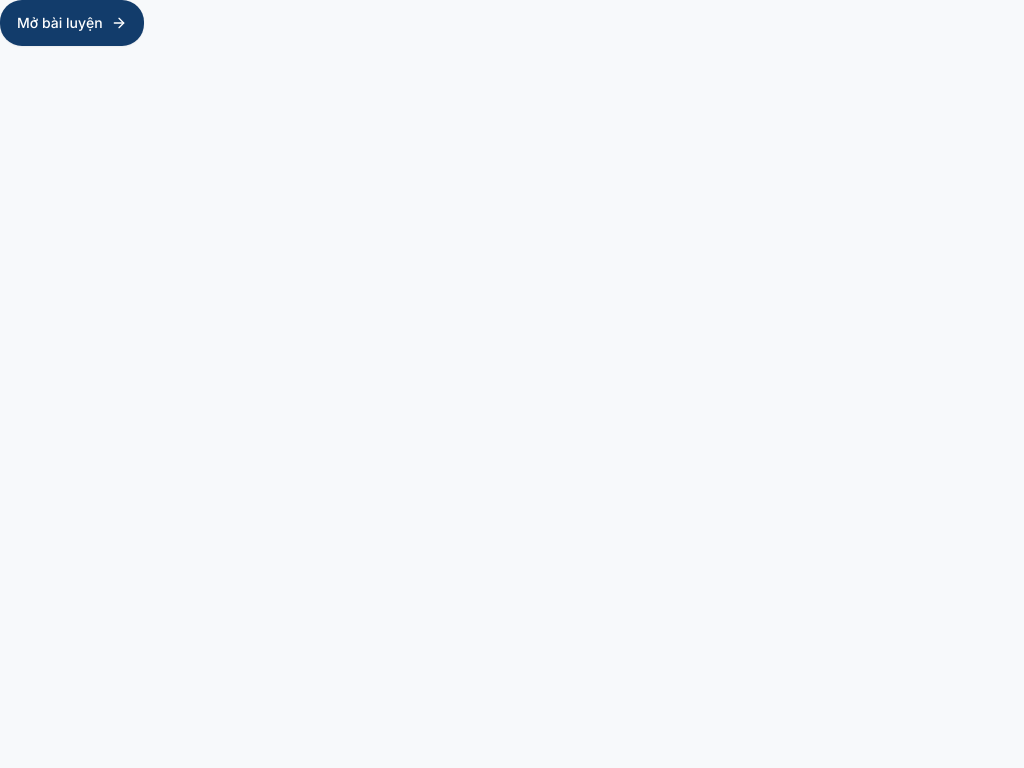
uses the same accessible mode popup before opening a practice set
Later steps or results of the test are not shown.
Click the link "Mở bài luyện": point(72, 23) [0,0,144,46]
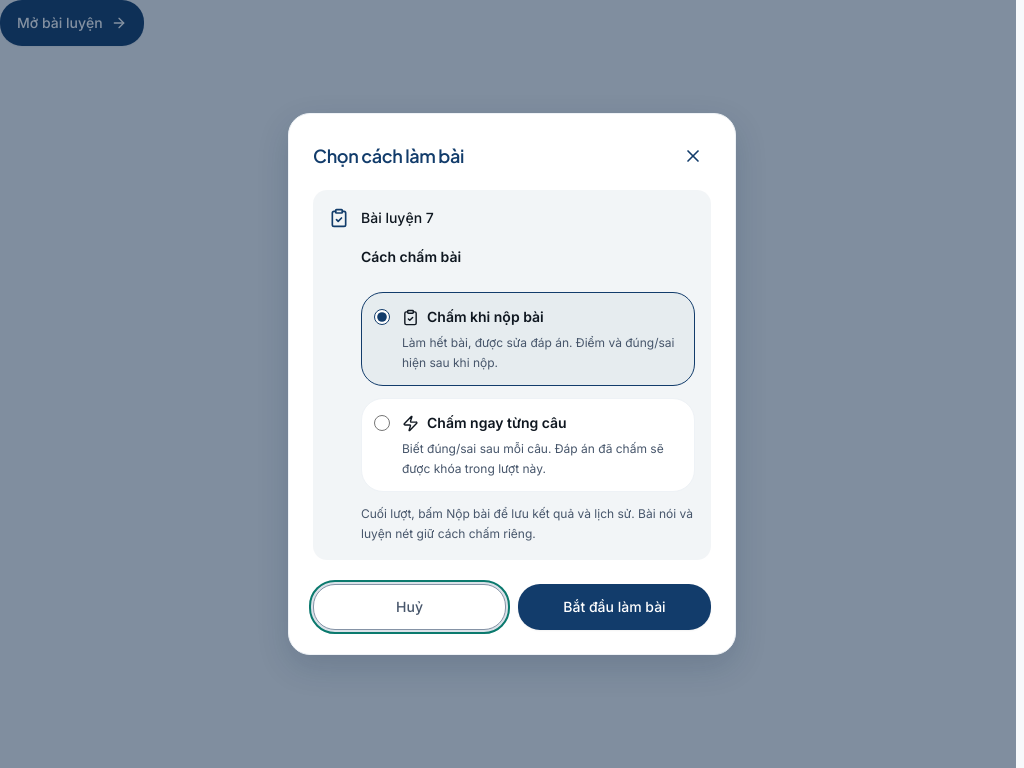
Check: the radio button labelled "Chấm khi nộp bài" is checked, box [374,309,390,325]
